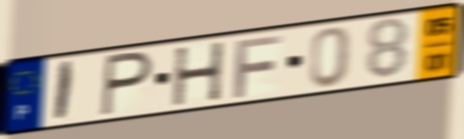0: (307, 24, 354, 90)
8: (363, 16, 415, 83)
F: (231, 32, 286, 100)
H: (171, 39, 227, 109)
I: (51, 58, 78, 124)
P: (98, 49, 156, 119)
